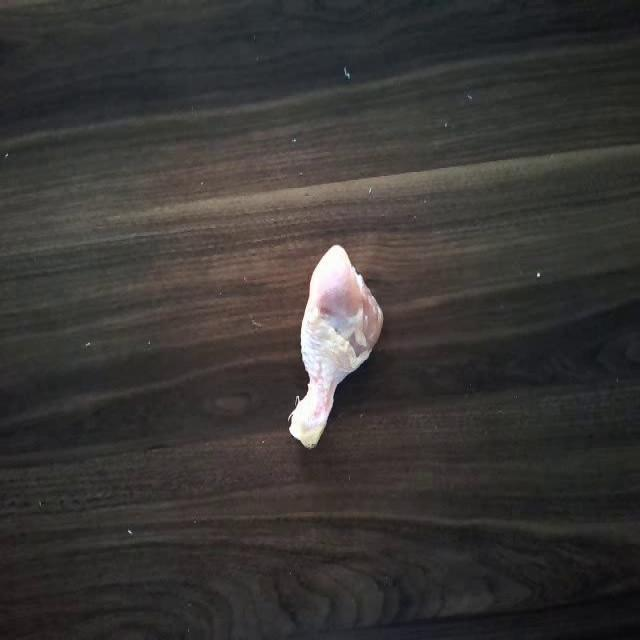leg: (278, 233, 382, 458)
